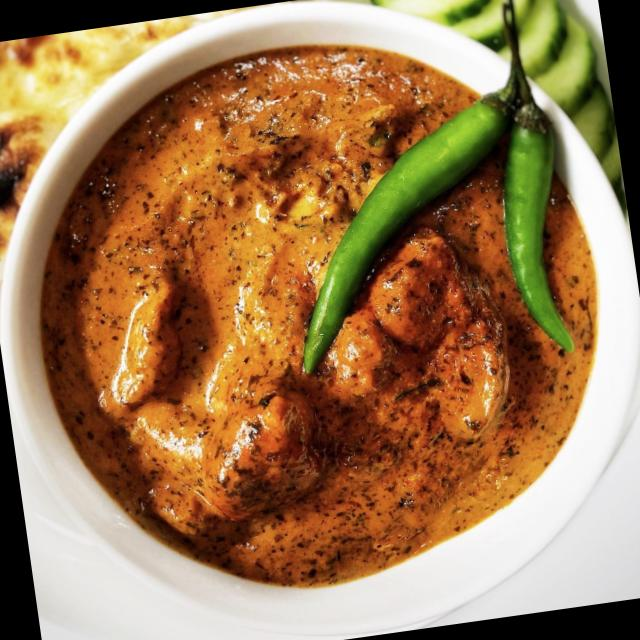chicken: (35, 50, 592, 610)
